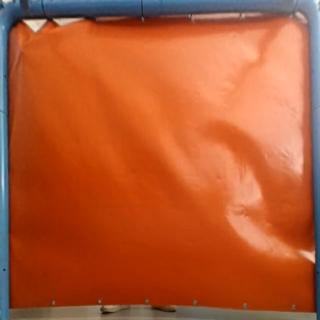Hit-hRxx: (15, 42, 30, 59)
